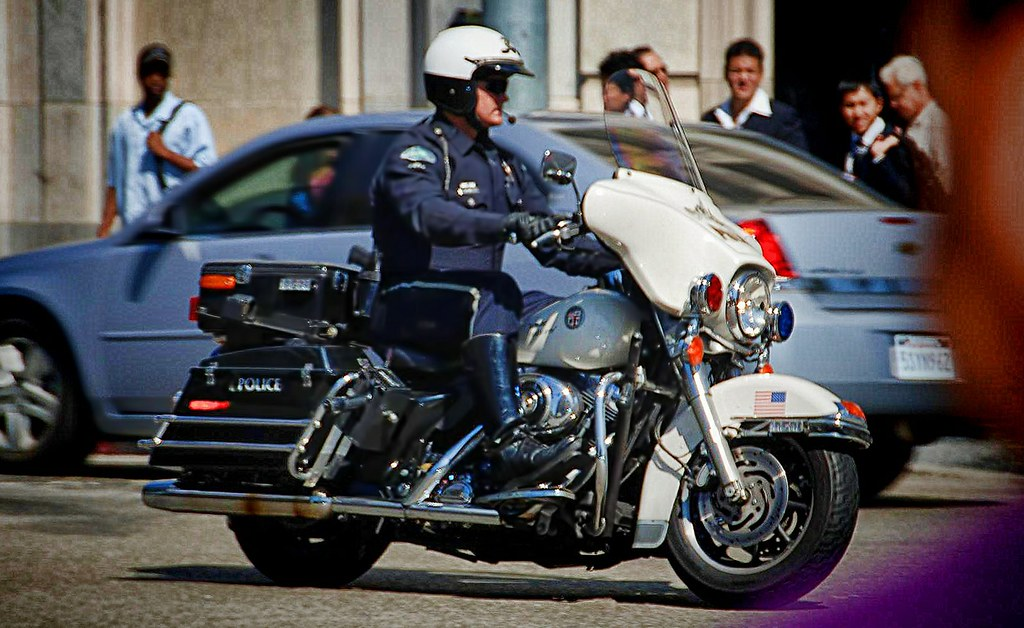helmet: (421, 22, 533, 105)
